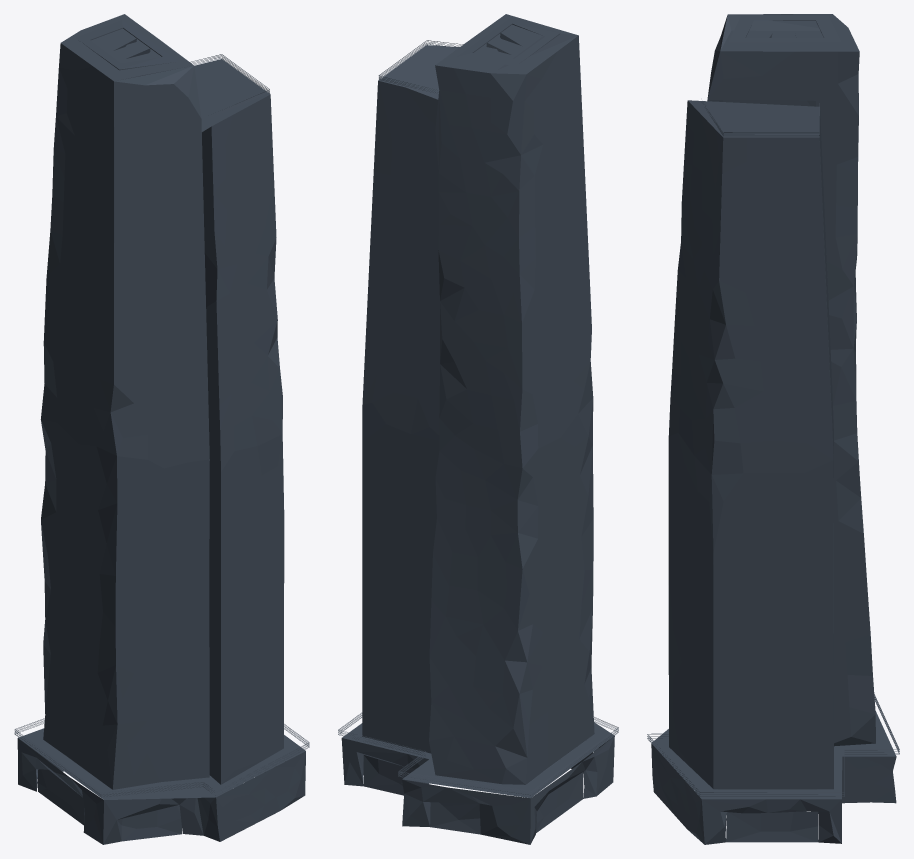
Rendered from skyscraper07-silhouette.glb.
The picture shows the model from 3 angles, left to right: view 1: azimuth 30°, elevation 25°; view 2: azimuth 150°, elevation 25°; view 3: azimuth 270°, elevation 25°; orthographic projection.
Parts seen in each view (by area): view 1: 01_Skyscraper07; view 2: 01_Skyscraper07; view 3: 01_Skyscraper07.
Boxes of the visible parts, box(x1,y1,x2,y2) form: 01_Skyscraper07: box(14, 14, 309, 844); 01_Skyscraper07: box(338, 14, 618, 844); 01_Skyscraper07: box(647, 14, 899, 844).
Bounding box in the file's own units: 53.37 × 185 × 56.57.
